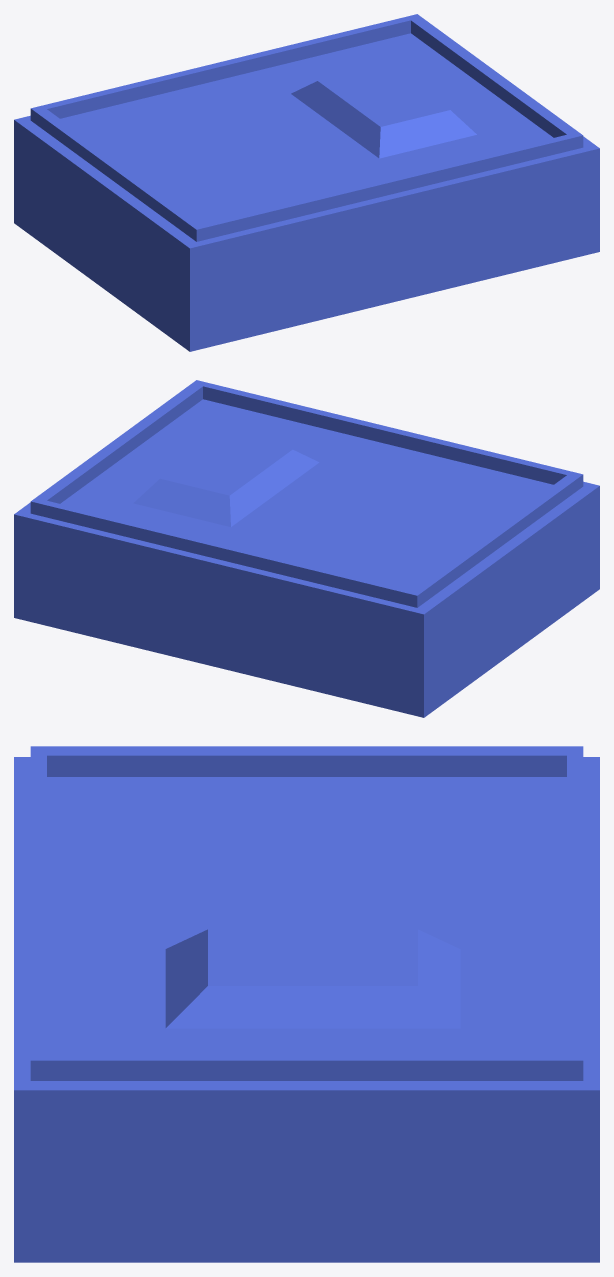
Rendered from wysepka.glb.
The picture shows the model from 3 angles, top to bottom: view 1: azimuth 30°, elevation 25°; view 2: azimuth 150°, elevation 25°; view 3: azimuth 270°, elevation 25°; orthographic projection. The views are drawn at different scales.
Parts seen in each view (by area): view 1: Cube.001; view 2: Cube.001; view 3: Cube.001.
Boxes of the visible parts, left/top/right/bottom form: Cube.001: left=14, top=14, right=599, bottom=351; Cube.001: left=14, top=380, right=599, bottom=717; Cube.001: left=14, top=746, right=599, bottom=1262.
Size of the model in its own units: 8.29 by 2.36 by 6.16.
